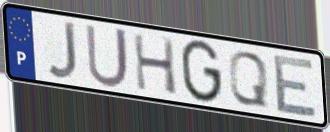E: (272, 53, 320, 119)
G: (180, 38, 224, 106)
H: (131, 30, 179, 97)
J: (45, 20, 80, 82)
Q: (226, 49, 270, 110)
U: (83, 22, 131, 90)
